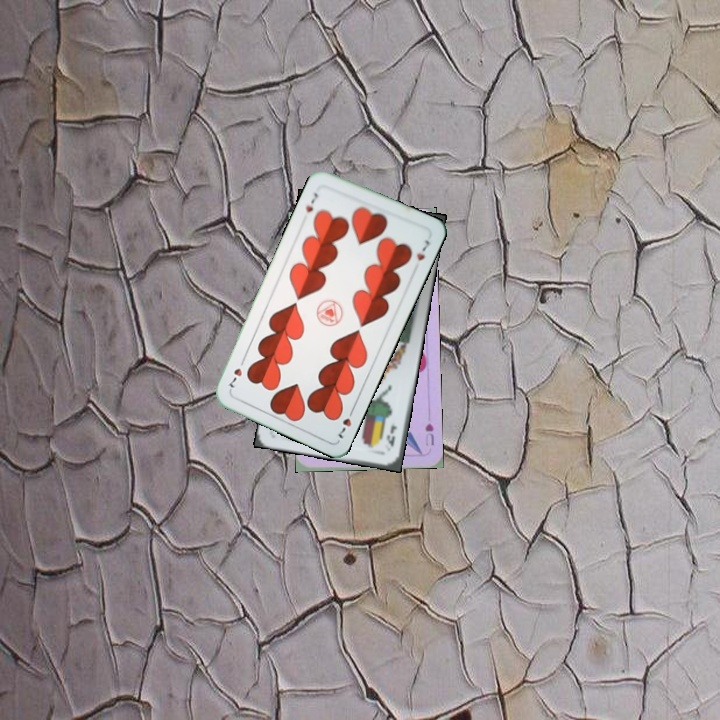EK: (382, 421, 399, 450)
H7: (334, 404, 357, 441), (301, 189, 321, 215)
HU: (421, 419, 436, 448)
